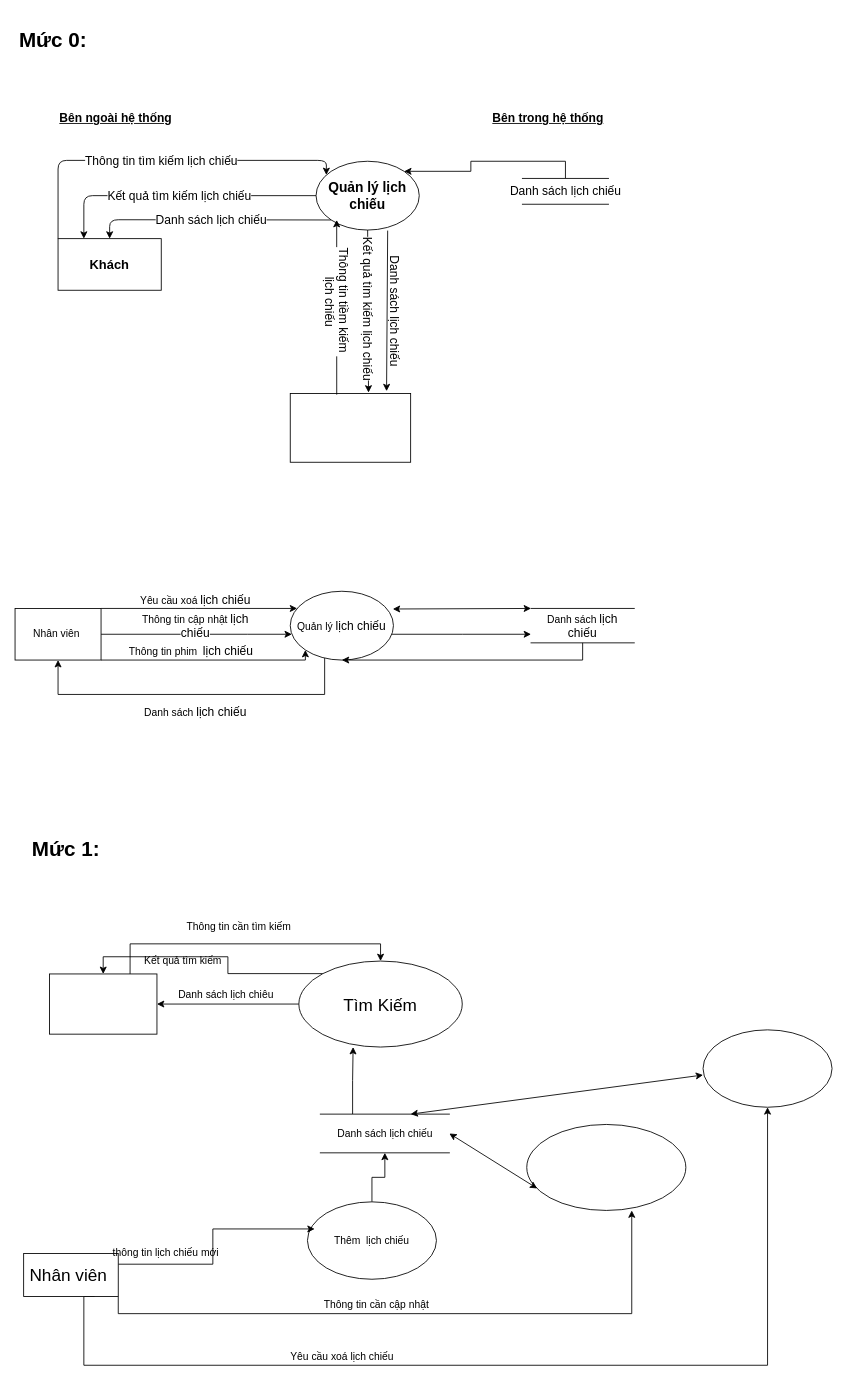
This 847x1387 diagram has some shape labels left out. The centre of each missing label's shape, as x and y in pixels:
Cập nhật lịch chiếu: pixel 606 1167
Khách hàng: pixel 103 1003
Thành viên: pixel 350 427
Xoá lịch chiếu: pixel 767 1068
